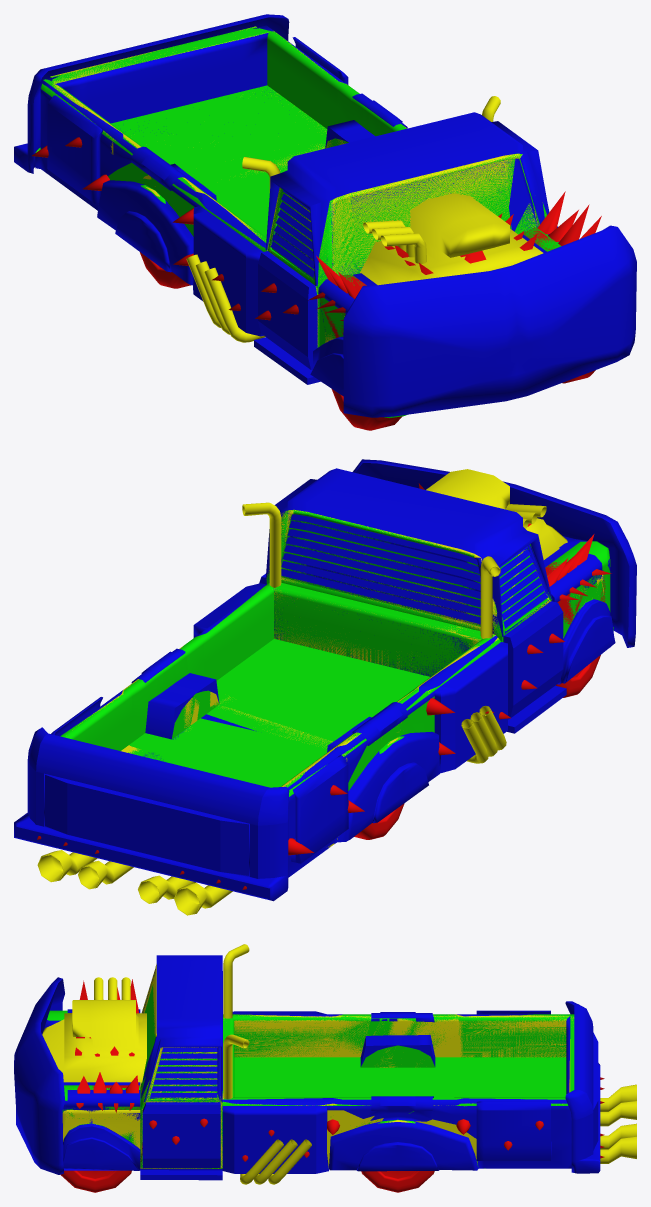
File: Truck_Anims_4.fbx
The picture shows the model from 3 angles, top to bottom: view 1: azimuth 30°, elevation 25°; view 2: azimuth 150°, elevation 25°; view 3: azimuth 270°, elevation 25°; orthographic projection. The views are drawn at different scales.
Parts seen in each view (by area): view 1: Truck_Front_Armored, Truck_Back_Armored, Truck_Cab_Armored_top, Truck_Front_Basic, Truck_Front_Speed, Truck_Back_basic, Truck_Cab_Top_3, Truck_Cab_1_top, Truck_Cab_Armored_Bottom, Truck_Front_Attack, Truck_Back_1, Truck_wheel_frontleft (+1 smaller); view 2: Truck_Back_Armored, Truck_Cab_Armored_top, Truck_Front_Basic, Truck_Back_basic, Truck_Front_Speed, Truck_Front_Armored, Truck_Cab_Top_3, Truck_Cab_Armored_Bottom, Truck_Front_Attack, Truck_Back_1, Truck_Cab_1_top, Truck_wheel_backleft; view 3: Truck_Back_Armored, Truck_Front_Speed, Truck_Front_Basic, Truck_Back_basic, Truck_Front_Armored, Truck_Back_1, Truck_Cab_Armored_top, Truck_Cab_Armored_Bottom, Truck_Front_Attack, Truck_Cab_Top_3, Truck_Cab_1_top, Truck_wheel_frontright (+2 smaller).
Part boxes in pixels (<box>): Truck_Front_Armored: <box>130,129,636,417</box>; Truck_Back_Armored: <box>14,14,407,336</box>; Truck_Cab_Armored_top: <box>265,112,549,286</box>; Truck_Front_Basic: <box>111,85,561,418</box>; Truck_Front_Speed: <box>186,93,543,342</box>; Truck_Back_basic: <box>35,27,406,251</box>; Truck_Cab_Top_3: <box>267,153,546,285</box>; Truck_Cab_1_top: <box>267,153,539,279</box>; Truck_Cab_Armored_Bottom: <box>254,226,557,384</box>; Truck_Front_Attack: <box>32,137,601,337</box>; Truck_Back_1: <box>37,26,405,245</box>; Truck_wheel_frontleft: <box>331,389,402,430</box>; Truck_Back_Armored: <box>14,583,507,901</box>; Truck_Cab_Armored_top: <box>265,468,552,636</box>; Truck_Front_Basic: <box>128,541,613,787</box>; Truck_Back_basic: <box>60,582,500,796</box>; Truck_Front_Speed: <box>37,469,603,915</box>; Truck_Front_Armored: <box>144,459,636,761</box>; Truck_Cab_Top_3: <box>266,510,551,636</box>; Truck_Cab_Armored_Bottom: <box>259,573,566,733</box>; Truck_Front_Attack: <box>37,483,611,889</box>; Truck_Back_1: <box>72,588,499,847</box>; Truck_Cab_1_top: <box>267,510,550,634</box>; Truck_wheel_backleft: <box>354,803,404,839</box>; Truck_Back_Armored: <box>222,1001,600,1173</box>; Truck_Front_Speed: <box>42,944,636,1184</box>; Truck_Front_Basic: <box>47,1010,566,1145</box>; Truck_Back_basic: <box>222,1014,574,1168</box>; Truck_Front_Armored: <box>14,977,140,1174</box>; Truck_Back_1: <box>222,1014,573,1167</box>; Truck_Cab_Armored_top: <box>141,955,222,1102</box>; Truck_Cab_Armored_Bottom: <box>140,1102,222,1180</box>; Truck_Front_Attack: <box>69,979,604,1161</box>; Truck_Cab_Top_3: <box>140,973,221,1102</box>; Truck_Cab_1_top: <box>141,964,221,1102</box>; Truck_wheel_frontright: <box>60,1170,131,1192</box>.
Size of the model in its own units: 3.5 by 2.36 by 8.25.
